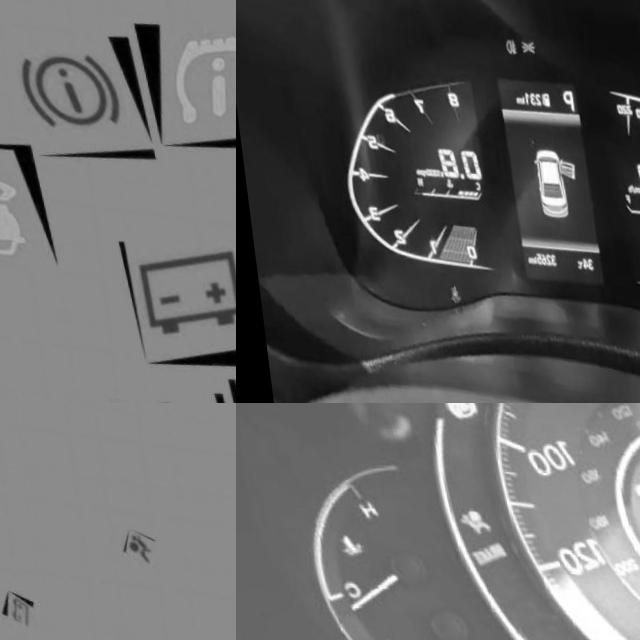Seat Belt: (439, 279, 451, 298)
